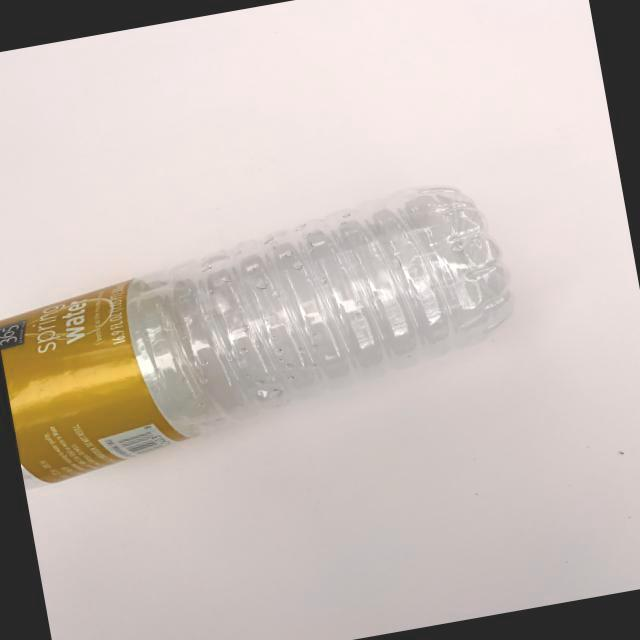plastic: (0, 152, 577, 516)
